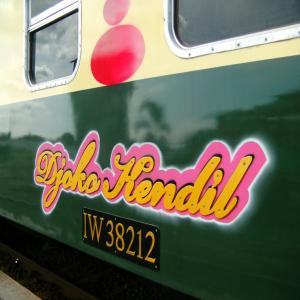Vehicle-registration-plate: (84, 209, 160, 272)
